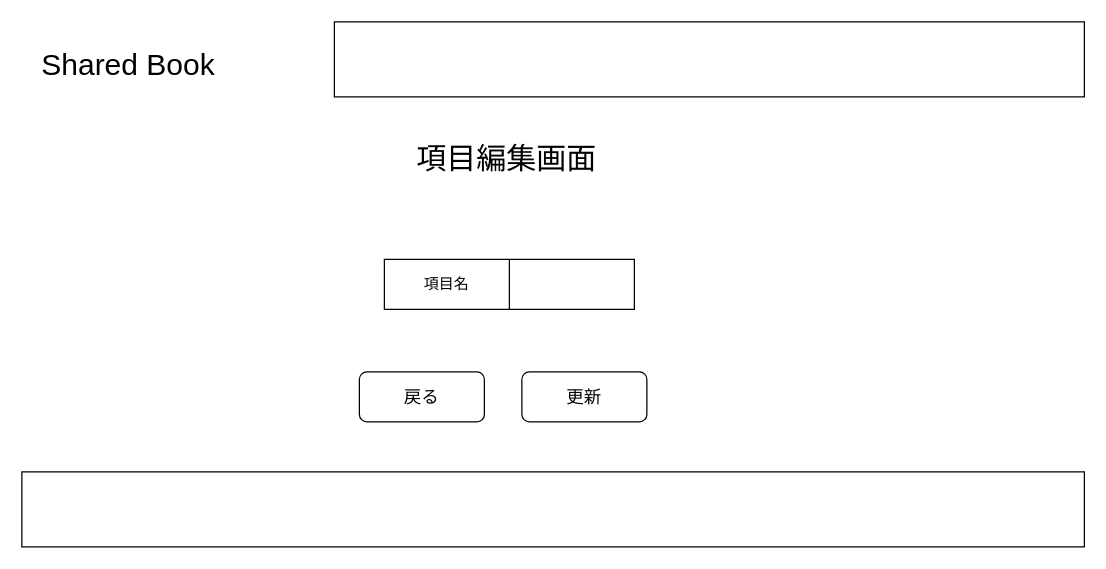
Image size: 1106x569. Some labels were removed from this diagram. Each missing label, with the centre of its shape:
@ 2024 Shared Book ALL RIGHTS RESERVED.: the point at 552,509
収入支出一覧 項目一覧 カレンダー一覧 月別グラフ 割勘一覧 アカウント ログアウト: the point at 708,59
